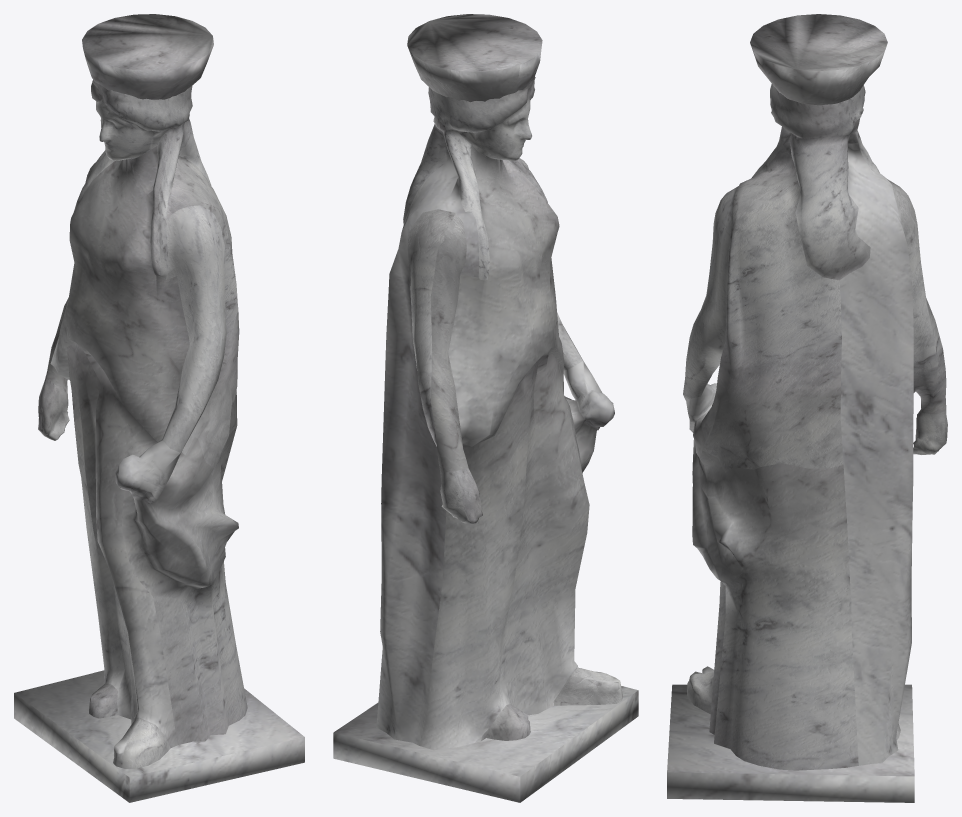
File: spouse.fbx
3 renders of one model, left to right at view 1: azimuth 30°, elevation 25°; view 2: azimuth 150°, elevation 25°; view 3: azimuth 270°, elevation 25°, orthographic. The views are drawn at different scales.
Parts seen in each view (by area): view 1: Spouse; view 2: Spouse; view 3: Spouse.
Boxes of the visible parts, x1,y1,x2,y2 form: Spouse: [14, 14, 304, 802]; Spouse: [333, 14, 638, 802]; Spouse: [667, 14, 947, 802].
Size of the model in its own units: 236 by 857 by 305.
Materials: 1 (1 with a texture image).
